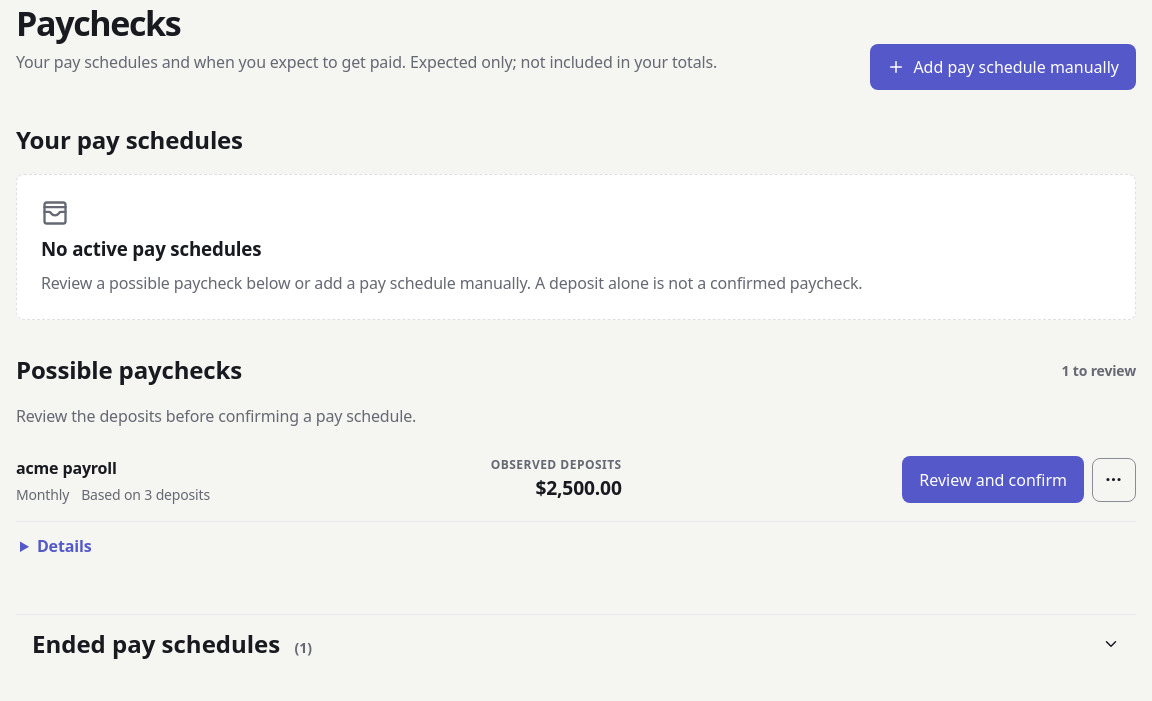
Test: Paychecks page › shows Reactivate as the visible action for an ended paycheck with Edit and Pause in the menu
expect the heading "Your pay schedules" is shown: met, box [16,122,243,158]
Click the button "Ended pay schedules (1)" at (156, 643), box [16,616,1136,672]
(page scrolled)
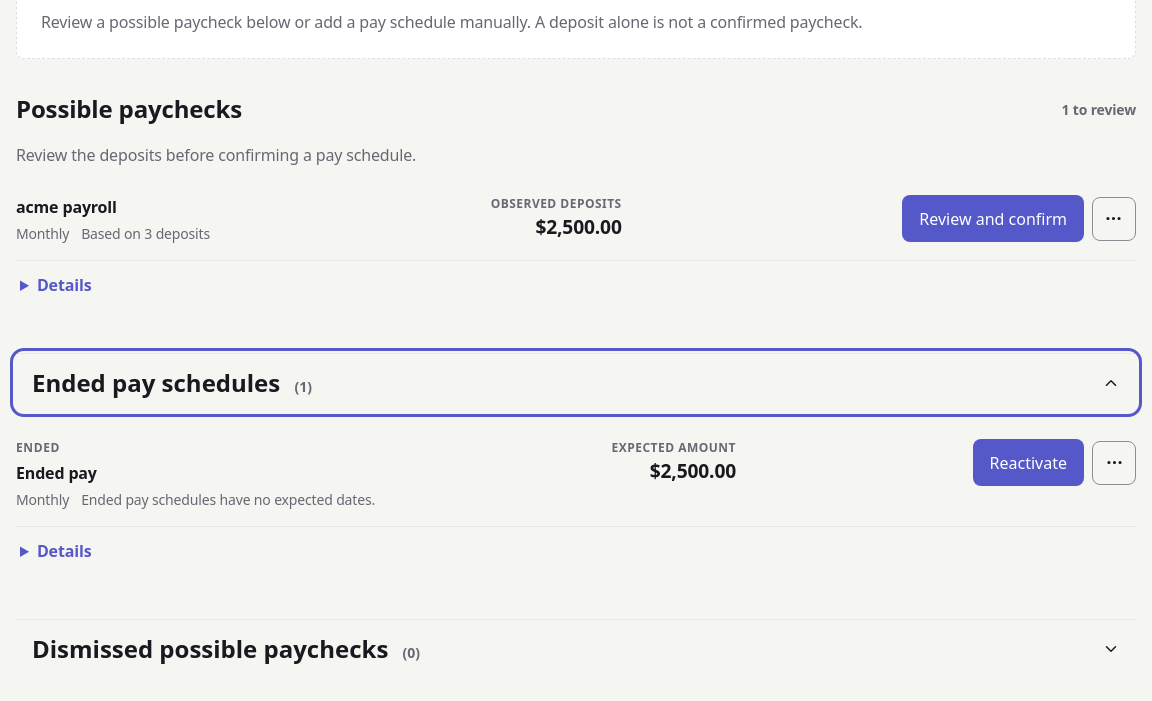
expect the button with aria-label "Reactivate Ended pay" is shown: met, box [972,439,1084,486]
Click the button named "Actions for Ended pay" at (1114, 463), box [1092,441,1136,485]
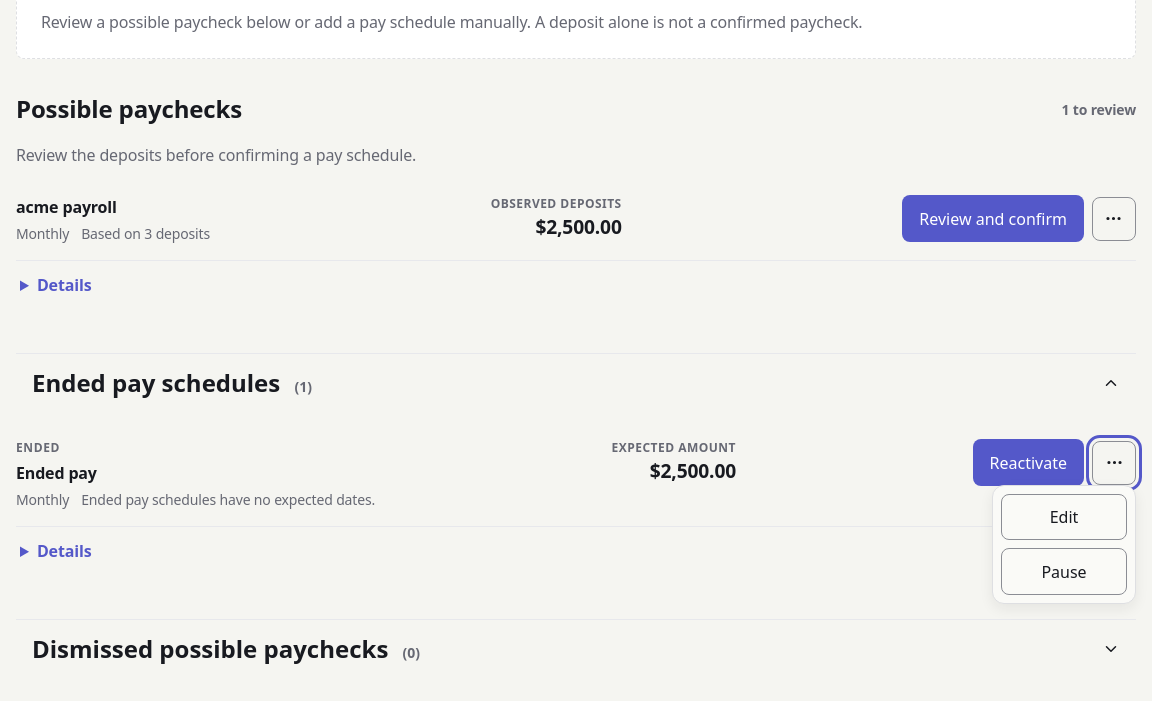
expect the button with aria-label "Edit Ended pay" is shown: met, box [1001,494,1127,540]
expect the button with aria-label "Pause Ended pay" is shown: met, box [1001,548,1127,595]
